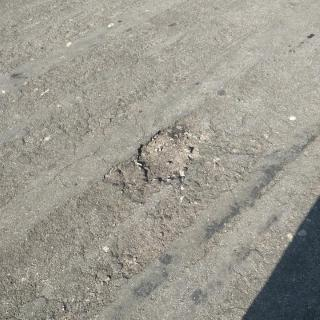pothole: (135, 107, 213, 184)
